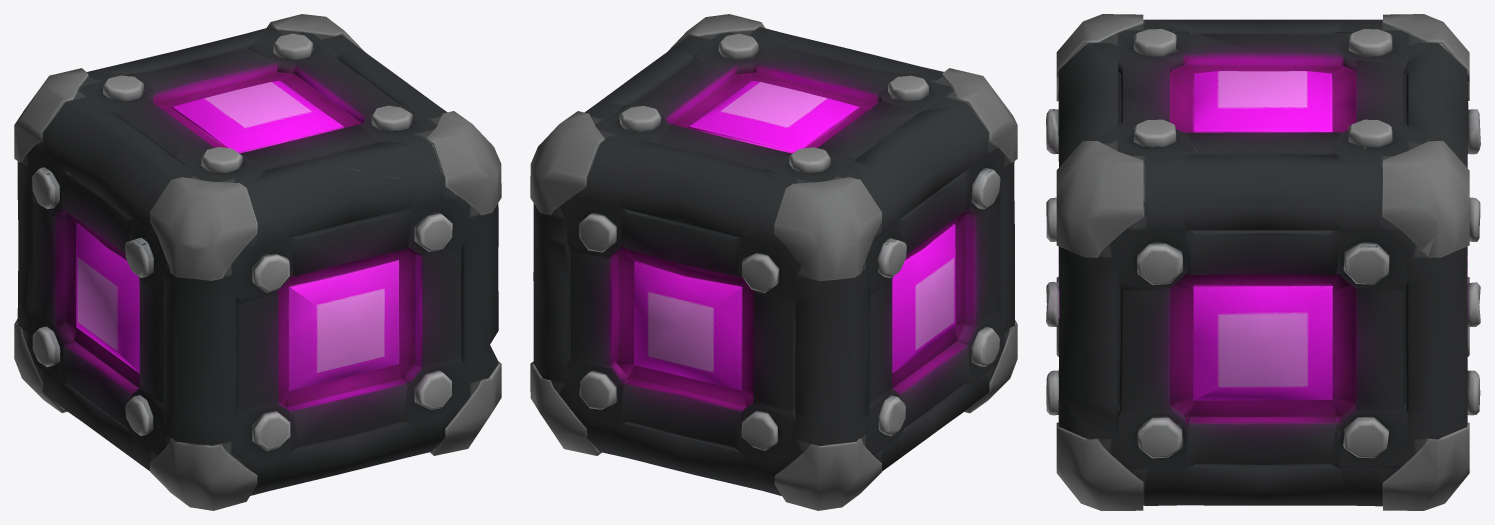
Rendered from Meshy_AI_Neon_Power_Cube_1017063448_texture.fbx.
3 views of the same model, side by side, from view 1: azimuth 30°, elevation 25°; view 2: azimuth 150°, elevation 25°; view 3: azimuth 270°, elevation 25° (orthographic). The views are drawn at different scales.
Parts seen in each view (by area): view 1: Mesh_0; view 2: Mesh_0; view 3: Mesh_0.
Boxes of the visible parts, left/top/right/bottom form: Mesh_0: left=14, top=14, right=501, bottom=510; Mesh_0: left=530, top=14, right=1017, bottom=510; Mesh_0: left=1046, top=14, right=1480, bottom=510.
Size of the model in its own units: 94.87 by 86.67 by 94.63.
Materials: 1 (1 with a texture image).
